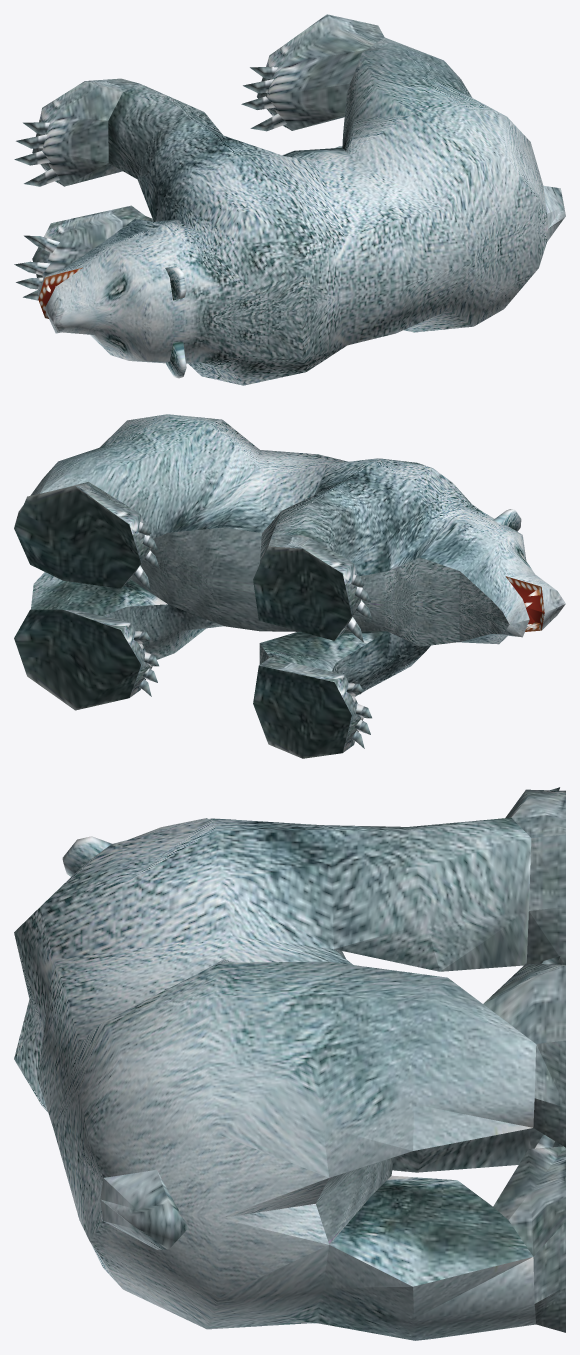
Rendered from bear.fbx.
3 renders of one model, top to bottom at view 1: azimuth 30°, elevation 25°; view 2: azimuth 150°, elevation 25°; view 3: azimuth 270°, elevation 25°, orthographic. The views are drawn at different scales.
Visible parts, largest first — view 1: Warbear_Material__12; view 2: Warbear_Material__12; view 3: Warbear_Material__12.
Part boxes in pixels (box(x1,y1,x2,y2)): Warbear_Material__12: box(14, 14, 565, 385); Warbear_Material__12: box(14, 414, 565, 758); Warbear_Material__12: box(14, 787, 565, 1340).
Size of the model in its own units: 9.43 by 4.27 by 5.85.
Materials: 1 (1 with a texture image).
